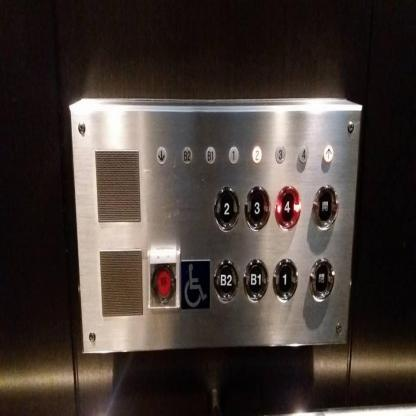1: (271, 256, 298, 304), (227, 144, 239, 165)
2: (212, 184, 240, 233), (251, 143, 262, 164)
3: (242, 183, 270, 232), (274, 142, 285, 164)
4: (273, 183, 301, 232), (297, 143, 309, 164)
B1: (241, 256, 268, 304), (204, 144, 215, 165)
B2: (212, 256, 240, 304), (180, 144, 192, 165)
CH: (178, 258, 210, 312)
down: (155, 144, 167, 166)
text: (145, 246, 180, 311), (308, 255, 336, 304), (311, 182, 339, 230)
up: (322, 143, 334, 164)
